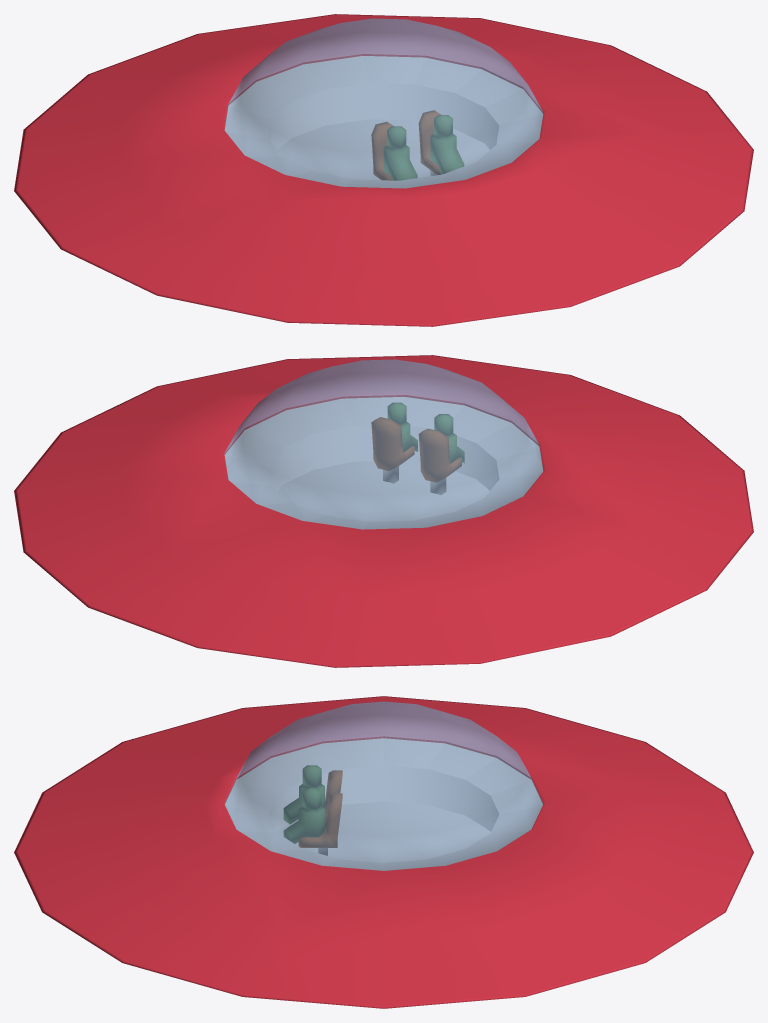
Rendered from FlyingSaucer.fbx.
3 views of the same model, one above another, from view 1: azimuth 30°, elevation 25°; view 2: azimuth 150°, elevation 25°; view 3: azimuth 270°, elevation 25° (orthographic).
Parts seen in each view (by area): view 1: SpaceShip; view 2: SpaceShip; view 3: SpaceShip.
Part boxes in pixels (x1=…): SpaceShip: x1=14, y1=14, x2=753, y2=326; SpaceShip: x1=14, y1=355, x2=753, y2=667; SpaceShip: x1=14, y1=696, x2=753, y2=1008.
Bounding box in the file's own units: 568 × 158 × 568.
